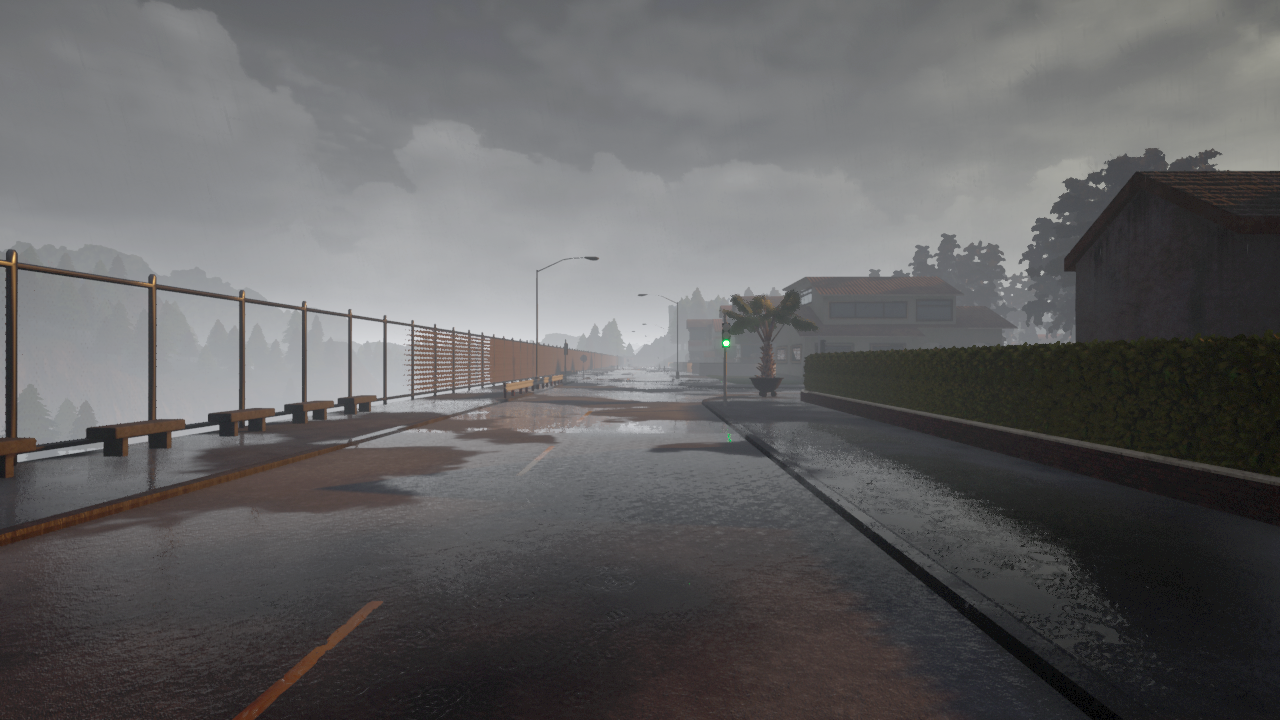green: (722, 321, 732, 347)
